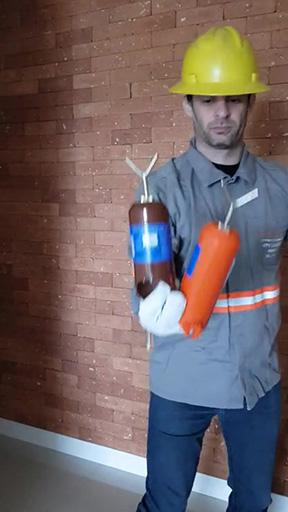Detector_Tensao_Contato: (174, 179, 261, 340), (123, 150, 178, 297)
